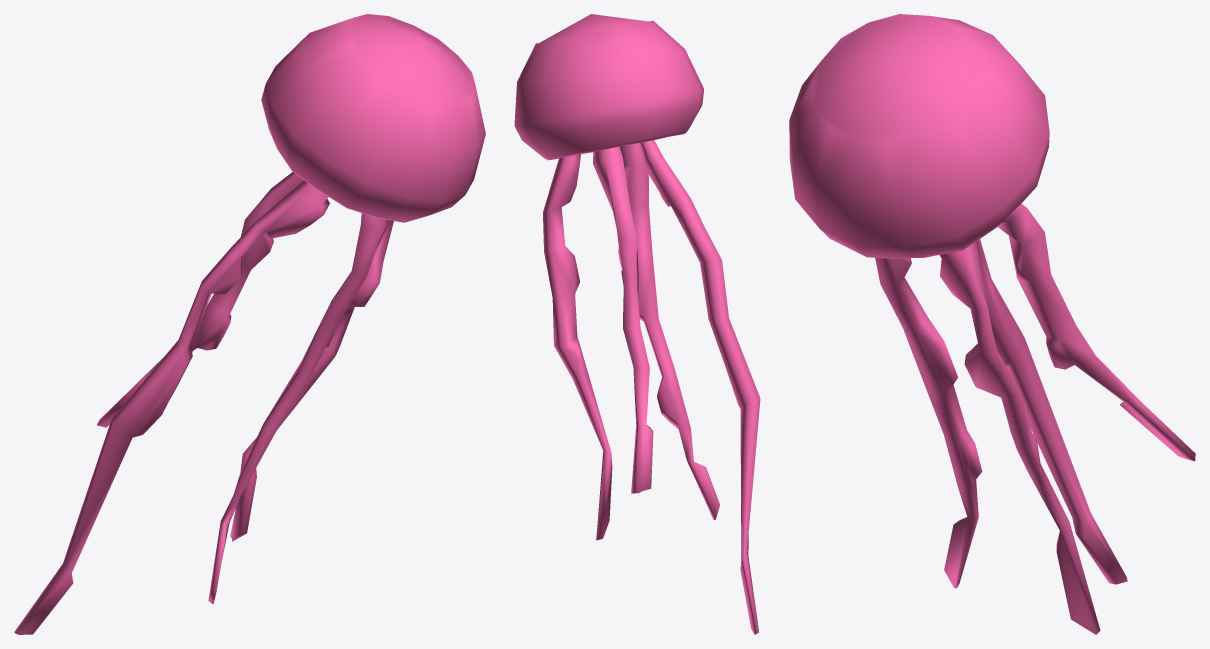
File: jelly.obj
3 renders of one model, left to right at view 1: azimuth 30°, elevation 25°; view 2: azimuth 150°, elevation 25°; view 3: azimuth 270°, elevation 25°, orthographic. The views are drawn at different scales.
Visible parts, largest first — view 1: Jellyfish_Sphere; view 2: Jellyfish_Sphere; view 3: Jellyfish_Sphere.
Boxes of the visible parts, box(x1,y1,x2,y2) form: Jellyfish_Sphere: box(14, 14, 485, 634); Jellyfish_Sphere: box(514, 14, 760, 634); Jellyfish_Sphere: box(789, 14, 1195, 634).
Bounding box in the file's own units: 4.26 × 6.76 × 3.53.
